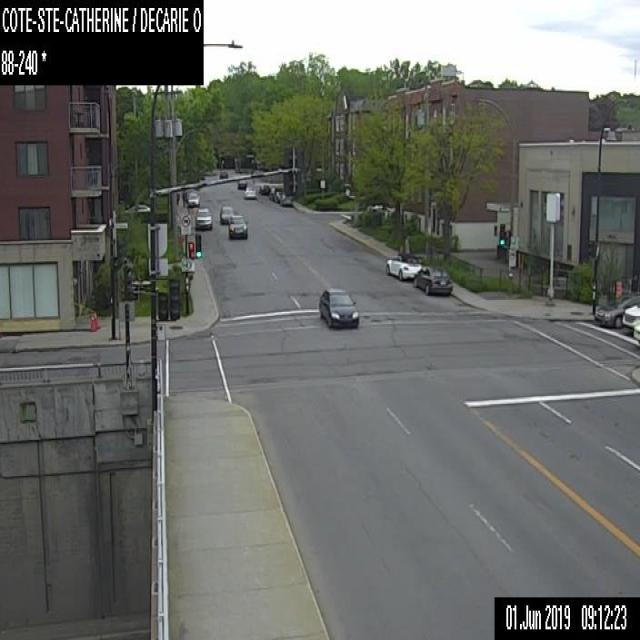construction: (615, 280, 621, 298), (93, 312, 99, 326), (90, 315, 94, 328)
vehicle: (318, 287, 358, 327), (595, 294, 639, 328), (413, 266, 452, 296), (385, 252, 421, 280), (227, 214, 247, 237), (622, 303, 639, 326), (195, 207, 211, 228), (219, 205, 234, 223), (187, 192, 199, 206), (268, 187, 280, 200), (243, 186, 255, 198), (258, 184, 270, 194), (280, 193, 290, 205), (274, 190, 282, 202), (236, 180, 246, 188), (218, 170, 227, 178)
